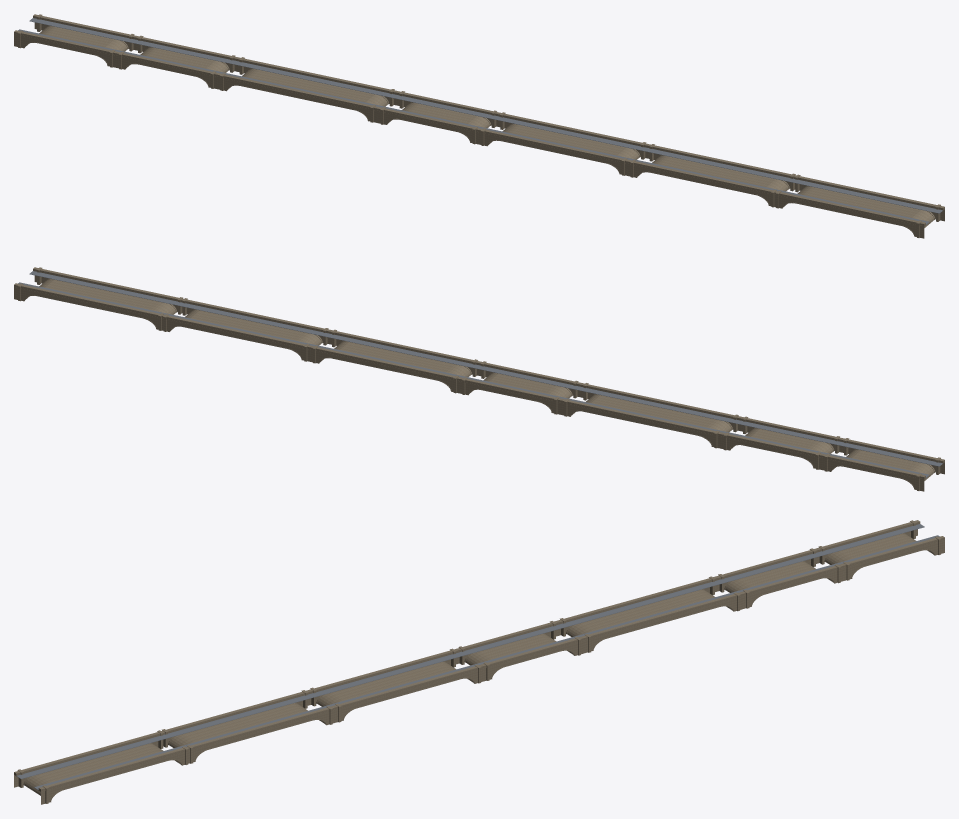
File: bridge.glb
3 renders of one model, top to bottom at view 1: azimuth 30°, elevation 25°; view 2: azimuth 210°, elevation 25°; view 3: azimuth 270°, elevation 25°, orthographic. The views are drawn at different scales.
Visible parts, largest first — view 1: Bridge.007; view 2: Bridge.007; view 3: Bridge.007.
Part boxes in pixels (<box>): Bridge.007: <box>14,14,944,238</box>; Bridge.007: <box>14,267,944,491</box>; Bridge.007: <box>14,520,944,804</box>.
Bounding box in the file's own units: 501 × 13.68 × 732.
10 materials, 10 textured.
